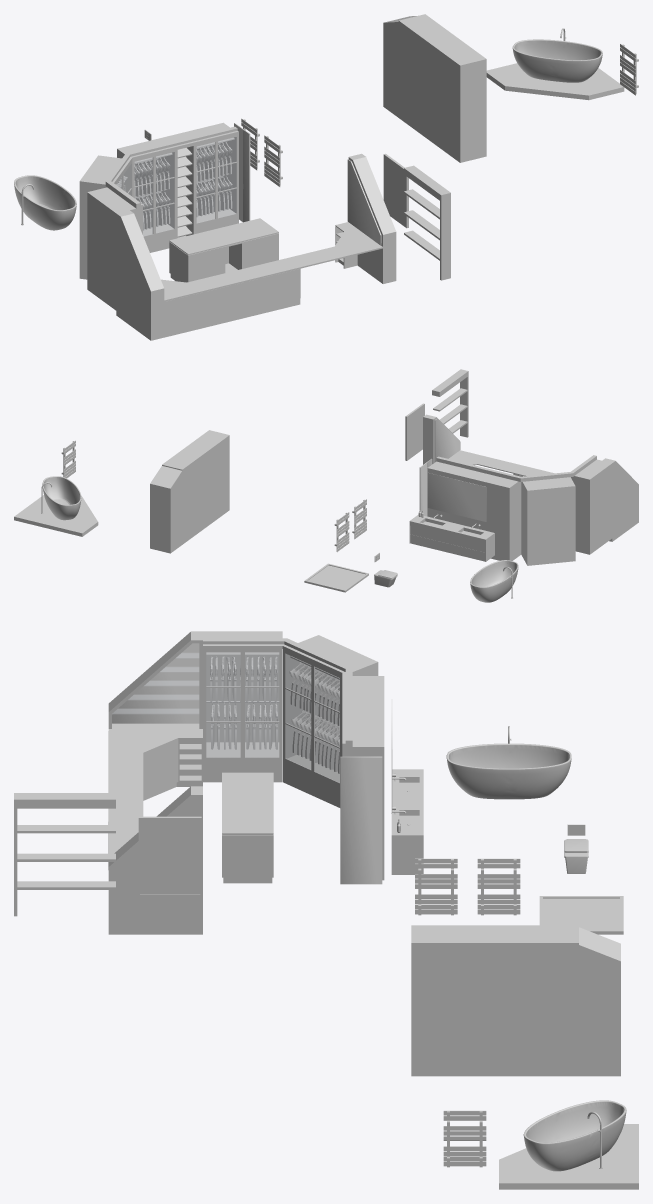
The model's file is EB03__Storey__FirstFloor__ProposedFixtures__MeshModel__.glb.
3 renders of one model, top to bottom at view 1: azimuth 30°, elevation 25°; view 2: azimuth 150°, elevation 25°; view 3: azimuth 270°, elevation 25°, orthographic. The views are drawn at different scales.
Parts seen in each view (by area): view 1: 27__ProposedBuilding__Fixtures::Default, Barcelona_sketchup_ID22282423 (×2), 85_0001__Wardrobe-01_1_ID24413416, 85_0001__Wardrobe-01_1_ID24413418, 27__ProposedBuilding__Fixtures::MAT140__Mirror__ClearDefault, Barcelona_ID22282374 (×2), 27_50__TowelRadiator__WallHuing__Type-01___ID23531846; view 2: 27__ProposedBuilding__Fixtures::Default, 27__ProposedBuilding__Fixtures::MAT140__Mirror__ClearDefault, 85_0001__Wardrobe-01_1_ID24413418, Barcelona_sketchup_ID22282423 (×2), 85_0001__Wardrobe-01_1_ID24413416, Barcelona_ID22282374, 27_50__TowelRadiator__WallHuing__Type-01___ID23531845, 27_50__TowelRadiator__WallHuing__Type-01___ID23531846; view 3: 27__ProposedBuilding__Fixtures::Default, 27__ProposedBuilding__Fixtures::MAT101__Glass__ClearDefault, Barcelona_sketchup_ID22282423 (×2), 27__ProposedBuilding__Fixtures::MAT140__Mirror__ClearDefault, 27_50__TowelRadiator__WallHuing__Type-01___ID23531845, 27_50__TowelRadiator__WallHuing__Type-01___ID23531846, 85_0001__Wardrobe-01_1_ID24413416, 85_0001__Wardrobe-01_1_ID24413418, Barcelona_ID22282374.
Boxes of the visible parts, x1=… form: 27__ProposedBuilding__Fixtures::Default: x1=79, y1=14, x2=638, y2=340; Barcelona_sketchup_ID22282423 (×2): x1=14, y1=39, x2=602, y2=230; 85_0001__Wardrobe-01_1_ID24413416: x1=179, y1=122, x2=238, y2=233; 85_0001__Wardrobe-01_1_ID24413418: x1=117, y1=138, x2=176, y2=252; 27__ProposedBuilding__Fixtures::MAT140__Mirror__ClearDefault: x1=234, y1=123, x2=380, y2=245; Barcelona_ID22282374 (×2): x1=14, y1=39, x2=602, y2=230; 27_50__TowelRadiator__WallHuing__Type-01___ID23531846: x1=264, y1=135, x2=282, y2=185; 27__ProposedBuilding__Fixtures::Default: x1=14, y1=369, x2=638, y2=592; 27__ProposedBuilding__Fixtures::MAT140__Mirror__ClearDefault: x1=419, y1=419, x2=486, y2=521; 85_0001__Wardrobe-01_1_ID24413418: x1=475, y1=473, x2=521, y2=560; Barcelona_sketchup_ID22282423 (×2): x1=42, y1=476, x2=518, y2=602; 85_0001__Wardrobe-01_1_ID24413416: x1=427, y1=461, x2=469, y2=524; Barcelona_ID22282374: x1=42, y1=476, x2=81, y2=520; 27_50__TowelRadiator__WallHuing__Type-01___ID23531845: x1=334, y1=512, x2=349, y2=551; 27_50__TowelRadiator__WallHuing__Type-01___ID23531846: x1=352, y1=499, x2=366, y2=539; 27__ProposedBuilding__Fixtures::Default: x1=14, y1=631, x2=638, y2=1189; 27__ProposedBuilding__Fixtures::MAT101__Glass__ClearDefault: x1=112, y1=652, x2=339, y2=782; Barcelona_sketchup_ID22282423 (×2): x1=446, y1=743, x2=626, y2=1171; 27__ProposedBuilding__Fixtures::MAT140__Mirror__ClearDefault: x1=112, y1=643, x2=392, y2=884; 27_50__TowelRadiator__WallHuing__Type-01___ID23531845: x1=477, y1=858, x2=520, y2=915; 27_50__TowelRadiator__WallHuing__Type-01___ID23531846: x1=415, y1=858, x2=457, y2=915; 85_0001__Wardrobe-01_1_ID24413416: x1=342, y1=717, x2=384, y2=880; 85_0001__Wardrobe-01_1_ID24413418: x1=352, y1=676, x2=384, y2=705; Barcelona_ID22282374: x1=447, y1=743, x2=571, y2=798.
Bounding box in the file's own units: 13.9 × 2.46 × 8.93.
3 materials, 1 textured.
